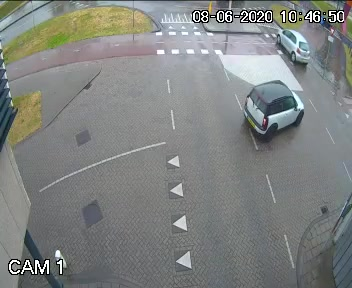car: (234, 72, 323, 143), (276, 20, 313, 67)
